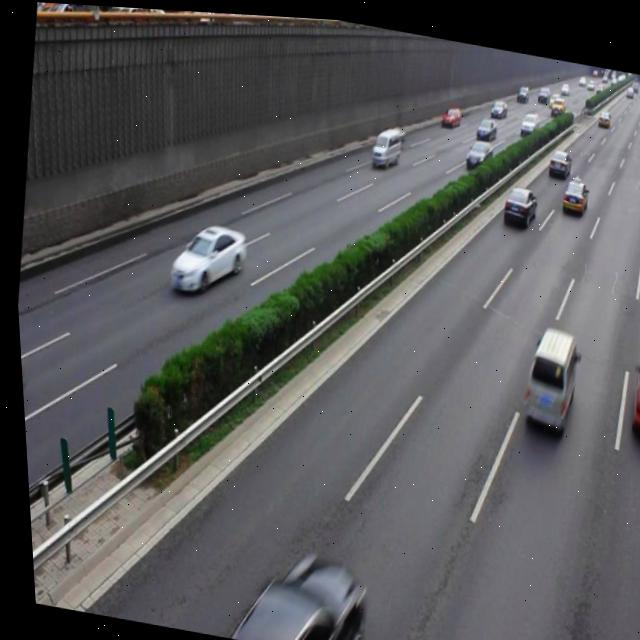car: (161, 215, 247, 300), (496, 176, 536, 223), (620, 345, 640, 436), (556, 169, 587, 209)
truck: (512, 315, 578, 431)
